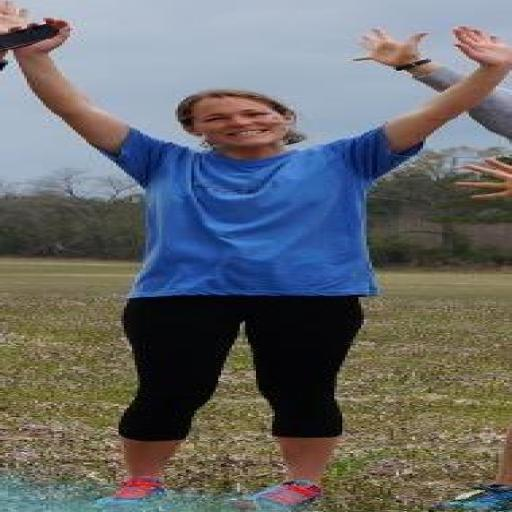person: (17, 19, 511, 509), (359, 30, 460, 91), (0, 0, 29, 34)
